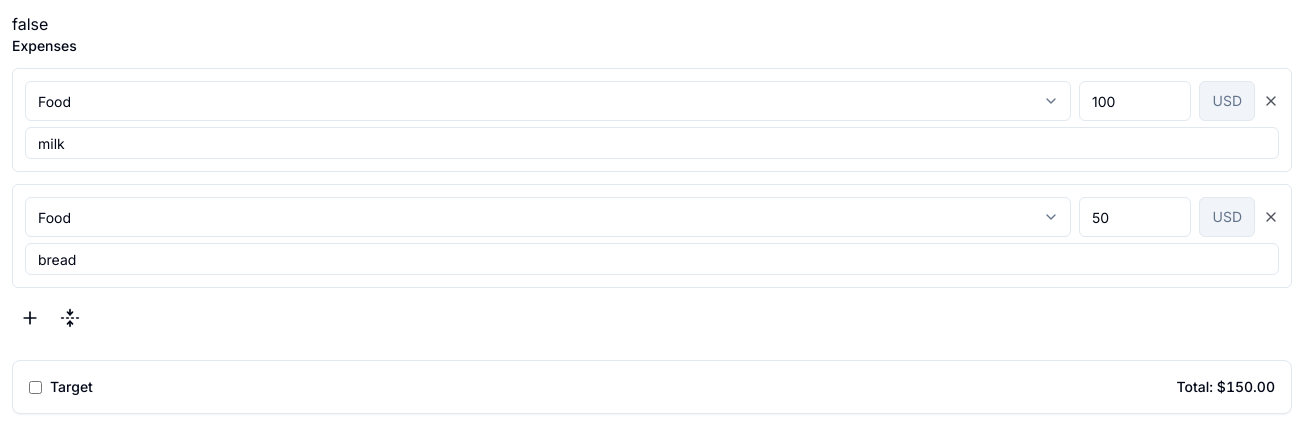
AllocationsEditor › collapses same-category rows on click: summed amount, joined comments, one row
Expected: the number of dropdowns is 2, [25, 81, 1071, 121]; [25, 197, 1071, 237]
Click the button named "collapse duplicates".
click(70, 318)  # box [52, 300, 88, 336]
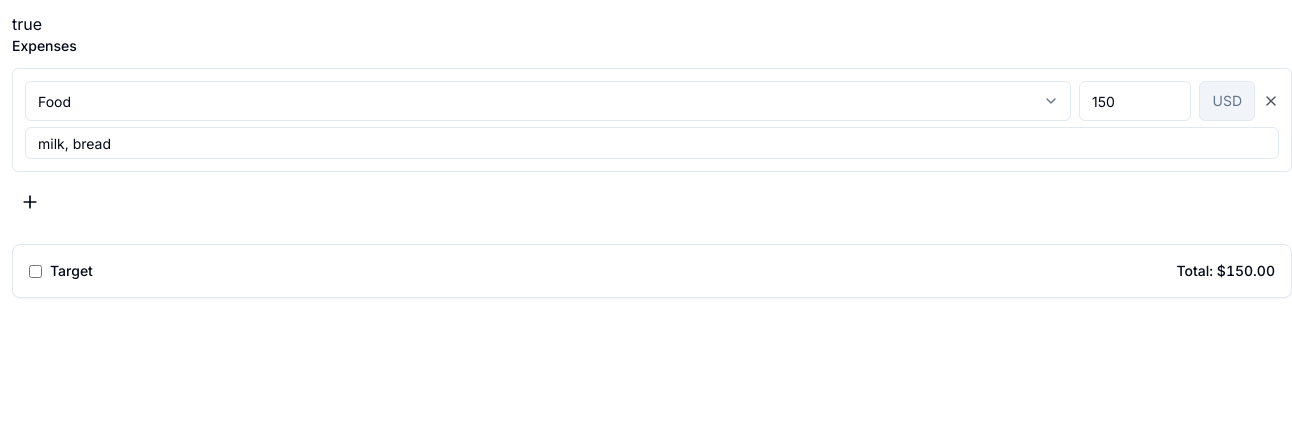
Expected: the number of dropdowns is 1, [25, 81, 1071, 121]
Expected: the number field holds "150", [1079, 81, 1192, 121]
Expected: the field named "Comment" holds "milk, bread", [25, 127, 1279, 159]
